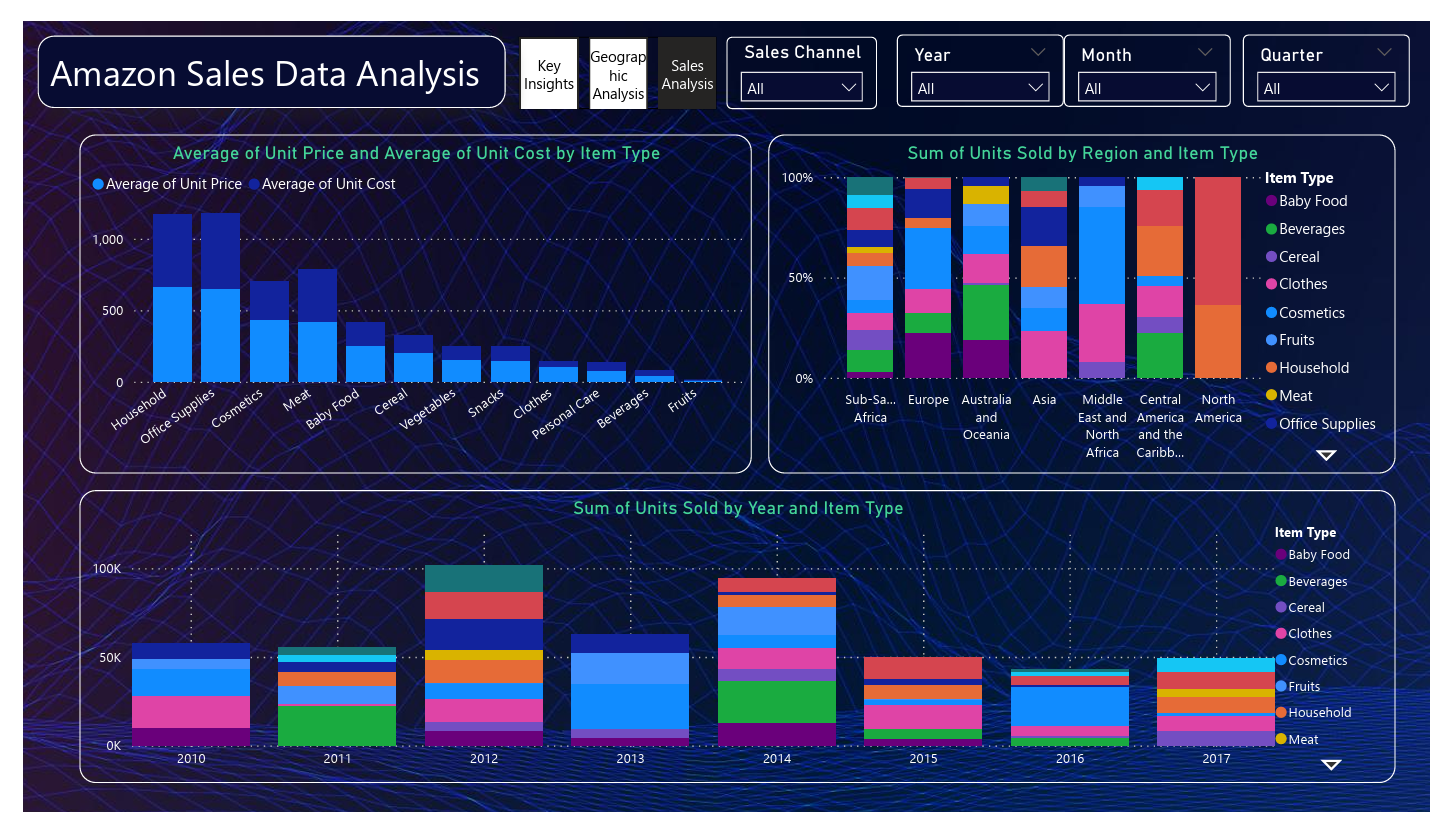

This screenshot's page, from the dashboard's own definition file:
{"tool":"powerbi","page":{"name":"Sales Analysis","canvas":[1280,720],"ordinal":2},"visuals":[{"type":"hundredPercentStackedColumnChart","fields":{"Category":["Amazonsalesdata.Region"],"Y":["Sum(Amazonsalesdata.Units Sold)"],"Series":["Amazonsalesdata.Item Type"]},"box":[677.9,102.9,570.8,308.7],"z":0},{"type":"columnChart","fields":{"Category":["Amazonsalesdata.Ship Date.Variation.Date Hierarchy.Year"],"Y":["Sum(Amazonsalesdata.Units Sold)"],"Series":["Amazonsalesdata.Item Type"]},"box":[50.8,426.8,1197.9,267.6],"z":1000},{"type":"columnChart","fields":{"Category":["Amazonsalesdata.Item Type"],"Y":["Avg(Amazonsalesdata.Unit Price)","Avg(Amazonsalesdata.Unit Cost)"]},"box":[50.8,102.9,612,308.7],"z":2000},{"type":"slicer","fields":{"Values":["Amazonsalesdata.Ship Date.Variation.Date Hierarchy.Year"]},"box":[794.5,12.3,152.3,65.9],"z":3000},{"type":"slicer","fields":{"Values":["Amazonsalesdata.Ship Date.Variation.Date Hierarchy.Month"]},"box":[946.8,12.3,152.3,65.9],"z":4000},{"type":"slicer","fields":{"Values":["Amazonsalesdata.Ship Date.Variation.Date Hierarchy.Quarter"]},"box":[1110.1,12.3,152.3,65.9],"z":5000},{"type":"pageNavigator","box":[450.9,14.1,179.8,65.5],"z":6000},{"type":"slicer","title":"Sales Channel","fields":{"Values":["Amazonsalesdata.Sales Channel"]},"box":[639.7,14.1,137.5,65.5],"z":7000},{"type":"textbox","box":[12.5,12.5,426.2,66.2],"z":8000}]}

Visuals, with their boxes in screenshot pixels (x1, y1, x2, y2), scaled from the page's 1280x720 canvas onto the 1455x832 screenshot:
hundredPercentStackedColumnChart - Amazonsalesdata.Region x Sum(Amazonsalesdata.Units Sold): BBox(771, 119, 1419, 476)
columnChart - Amazonsalesdata.Ship Date.Variation.Date Hierarchy.Year x Sum(Amazonsalesdata.Units Sold): BBox(58, 493, 1419, 802)
columnChart - Amazonsalesdata.Item Type x Avg(Amazonsalesdata.Unit Price): BBox(58, 119, 753, 476)
slicer - Amazonsalesdata.Ship Date.Variation.Date Hierarchy.Year: BBox(903, 14, 1076, 90)
slicer - Amazonsalesdata.Ship Date.Variation.Date Hierarchy.Month: BBox(1076, 14, 1249, 90)
slicer - Amazonsalesdata.Ship Date.Variation.Date Hierarchy.Quarter: BBox(1262, 14, 1435, 90)
pageNavigator: BBox(513, 16, 717, 92)
"Sales Channel" slicer: BBox(727, 16, 883, 92)
textbox: BBox(14, 14, 499, 91)
